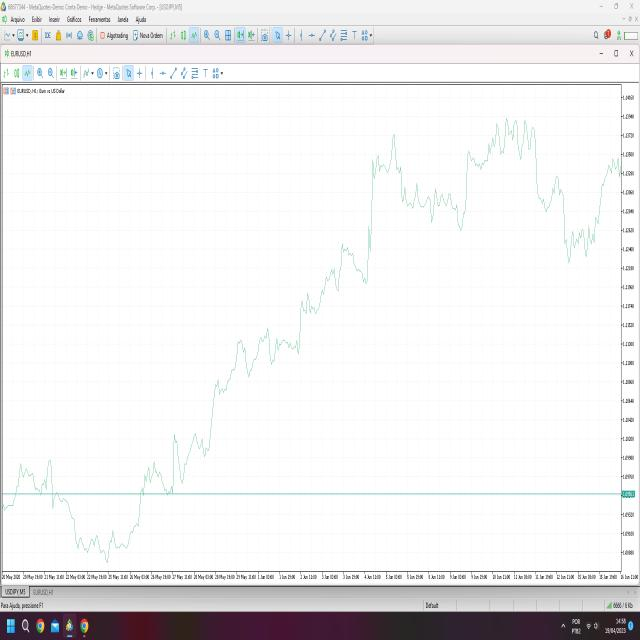bandeira_alta: (362, 125, 402, 278), (458, 118, 492, 238)
